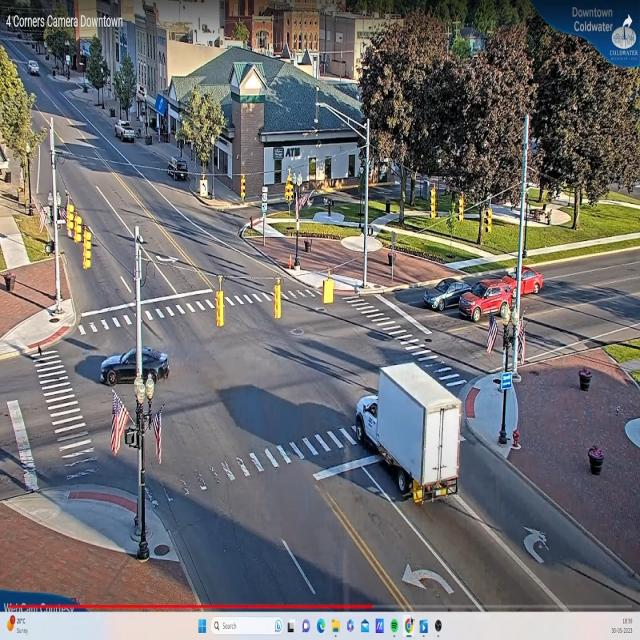car: (97, 343, 170, 385), (456, 279, 512, 323), (422, 274, 463, 314), (508, 261, 543, 298), (116, 124, 137, 143)
truck: (348, 359, 465, 519)
